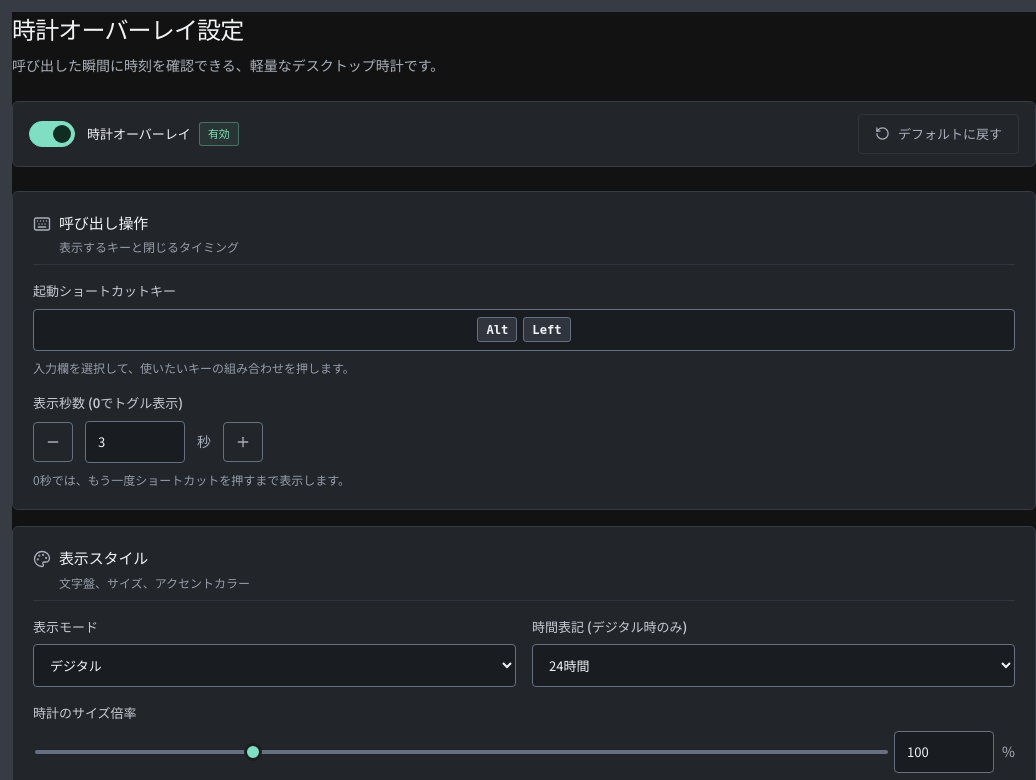
it: ClockSettings component › keeps auto-hide seconds within the supported range
Expected: the heading "時計オーバーレイ設定" is shown, left=12, top=12, right=243, bottom=46
Replace the text in the number field labelled "表示秒数 (0でトグル表示)" with "999": coordinates (135, 442) left=85, top=421, right=185, bottom=463
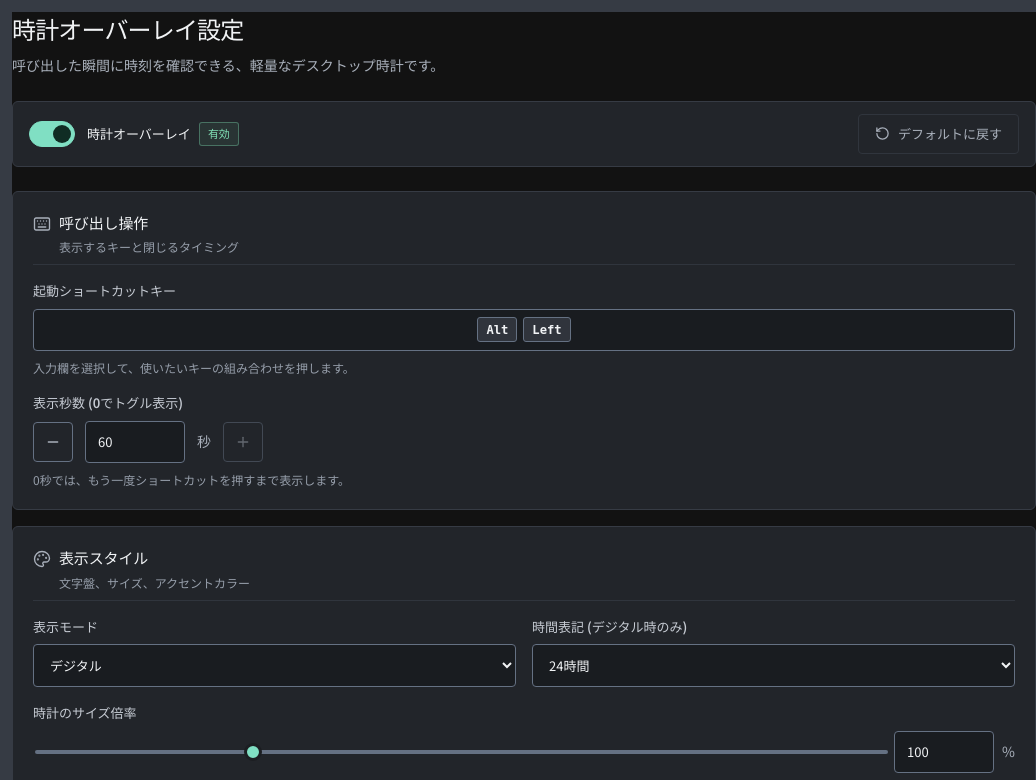
Result: the number field labelled "表示秒数 (0でトグル表示)" holds "60"
Replace the text in the number field labelled "表示秒数 (0でトグル表示)" with "-5": coordinates (135, 442) left=85, top=421, right=185, bottom=463
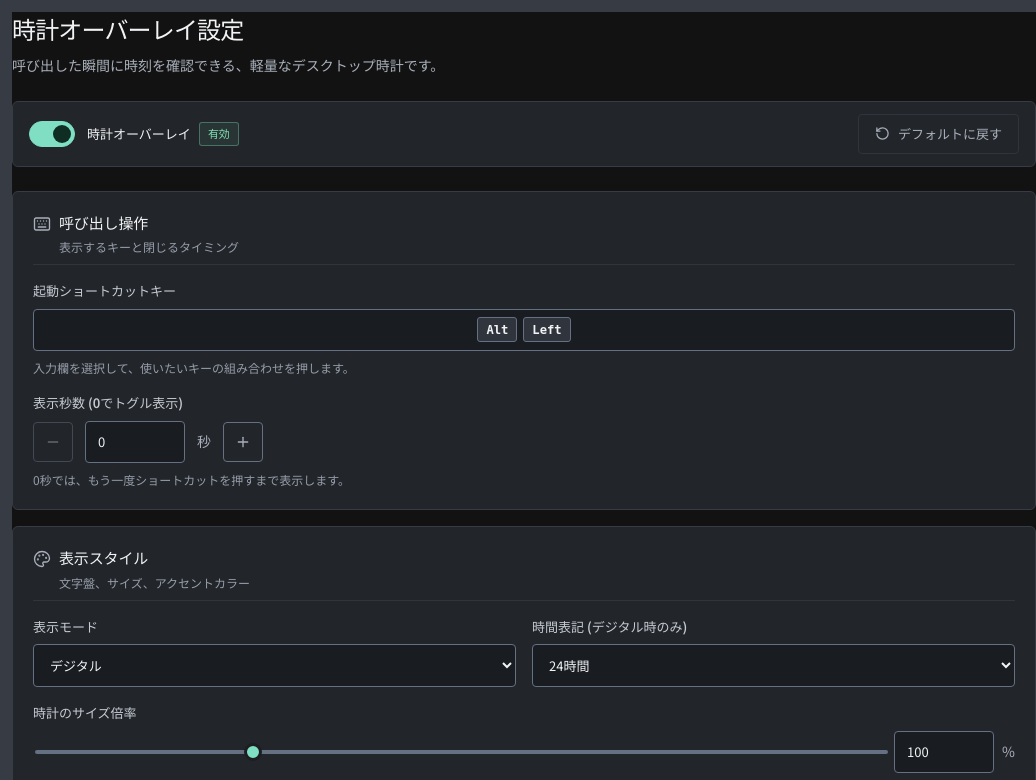
Result: the number field labelled "表示秒数 (0でトグル表示)" holds "0" at left=85, top=421, right=185, bottom=463
